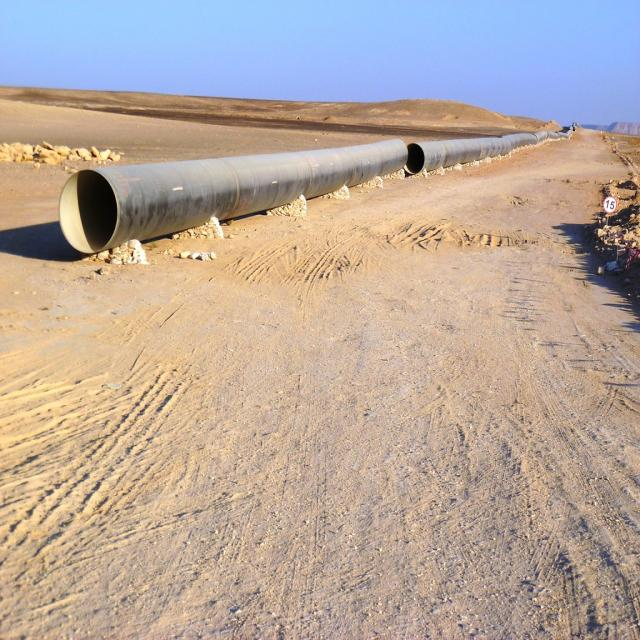gas: (59, 130, 568, 254)
